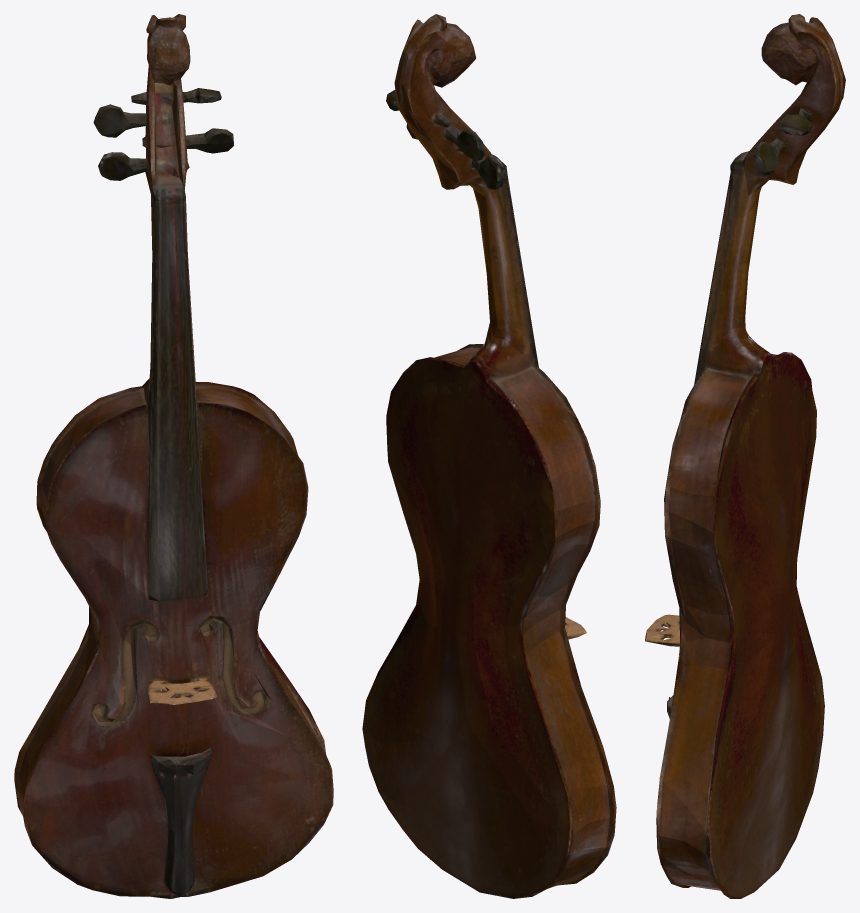
3 renders of one model, left to right at view 1: azimuth 30°, elevation 25°; view 2: azimuth 150°, elevation 25°; view 3: azimuth 270°, elevation 25°, orthographic. The views are drawn at different scales.
Parts seen in each view (by area): view 1: Geige_2.6k_0.5k; view 2: Geige_2.6k_0.5k; view 3: Geige_2.6k_0.5k.
Boxes of the visible parts, box(x1,y1,x2,y2) form: Geige_2.6k_0.5k: box(14, 14, 333, 898); Geige_2.6k_0.5k: box(362, 14, 616, 898); Geige_2.6k_0.5k: box(645, 14, 845, 898).
Size of the model in its own units: 0.2072 by 0.6178 by 0.1279.
1 material, 1 textured.
